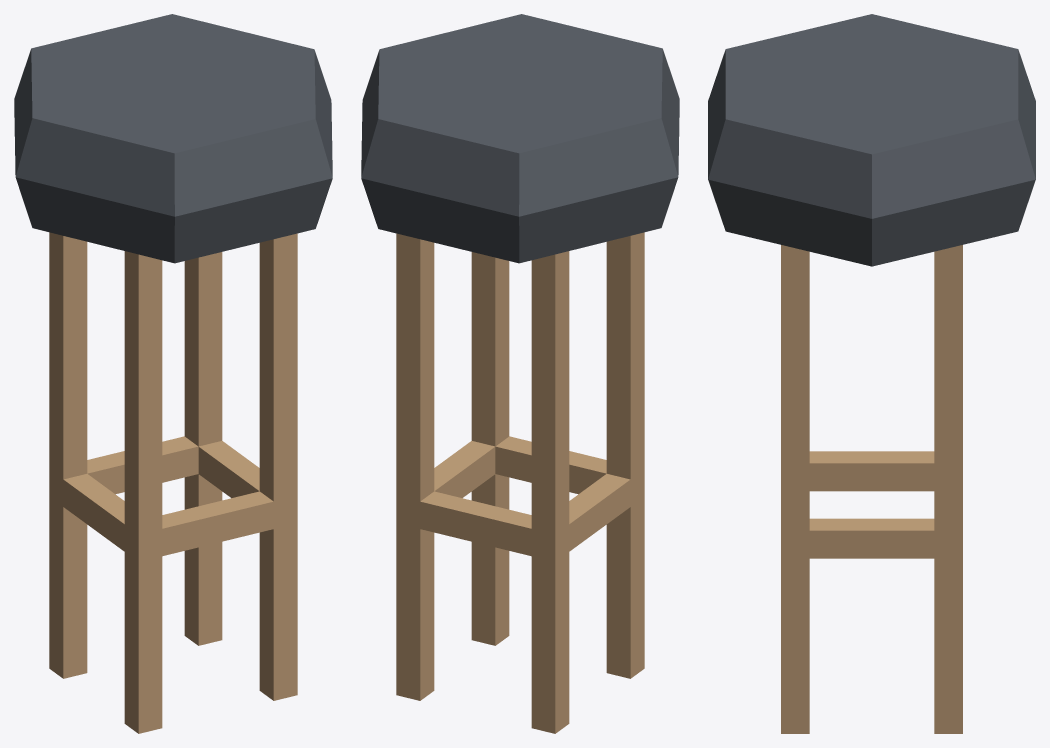
The model's file is stool-bar.glb.
The picture shows the model from 3 angles, left to right: view 1: azimuth 30°, elevation 25°; view 2: azimuth 150°, elevation 25°; view 3: azimuth 270°, elevation 25°; orthographic projection. The views are drawn at different scales.
Parts seen in each view (by area): view 1: stool-bar; view 2: stool-bar; view 3: stool-bar.
Boxes of the visible parts, x1,y1,x2,y2 form: stool-bar: (14,14,332,733); stool-bar: (361,14,679,733); stool-bar: (708,14,1035,733).
Bounding box in the file's own units: 0.42 × 0.76 × 0.37.
